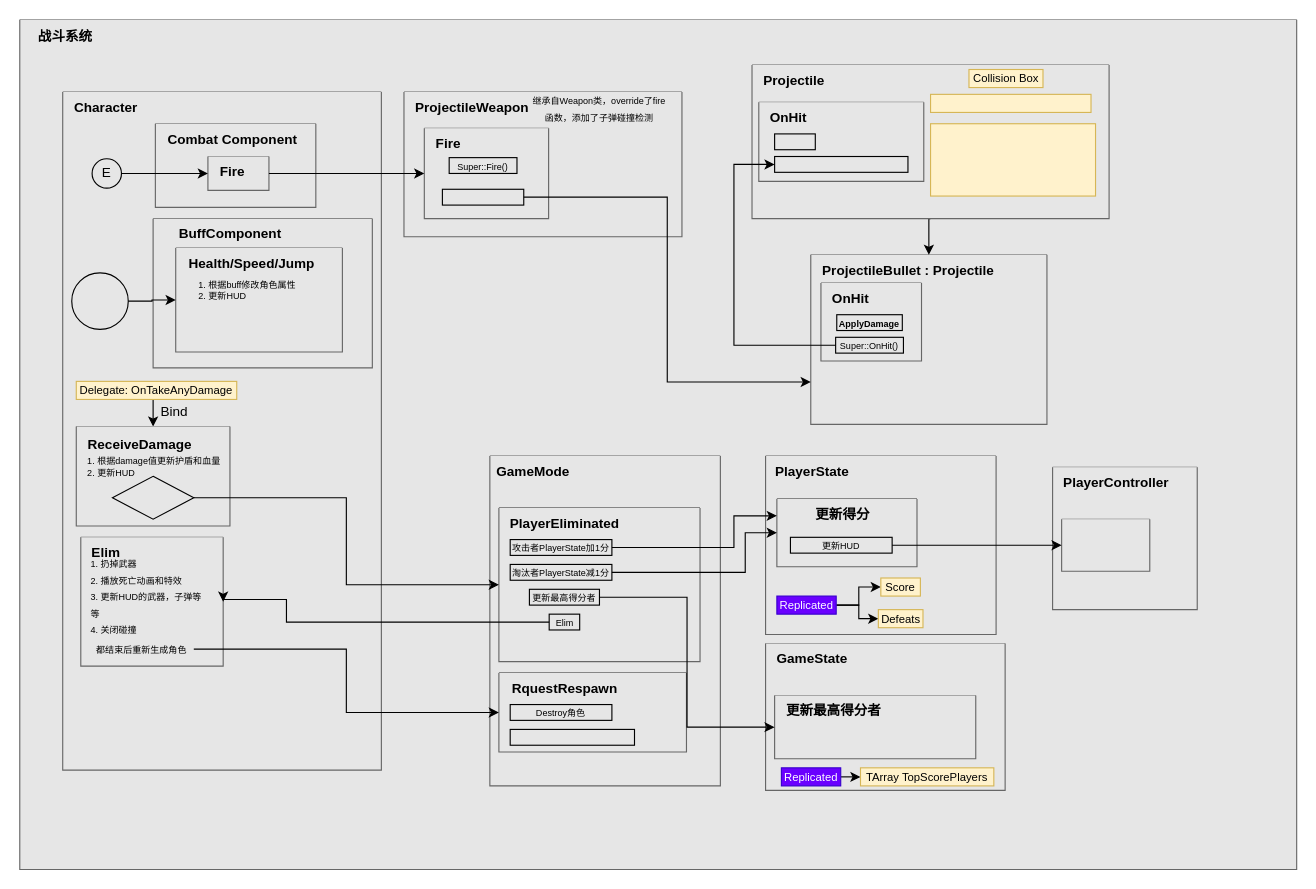
Image size: 1316x889. Some labels were removed from this diagram. Each missing label, with the centre of its shape:
"Destroy" goes at (794,141).
"Destroyed(播放命中特效于声音)" goes at (840,163).
"ParticleSystem和SoundCue等" goes at (1010,102).
"ProjectileMovementComponent 该组件负责子弹的运动 InitialSpeed; MaxSpeed;" goes at (1012,159).
"SetHUD" goes at (1105,544).
"Spawn Projectile" goes at (482,196).
"与Buff Overlap" goes at (99,300).
"血量小于等于0？" goes at (152,497).
"随机旋转一个起始点生成角色" goes at (571,736).
